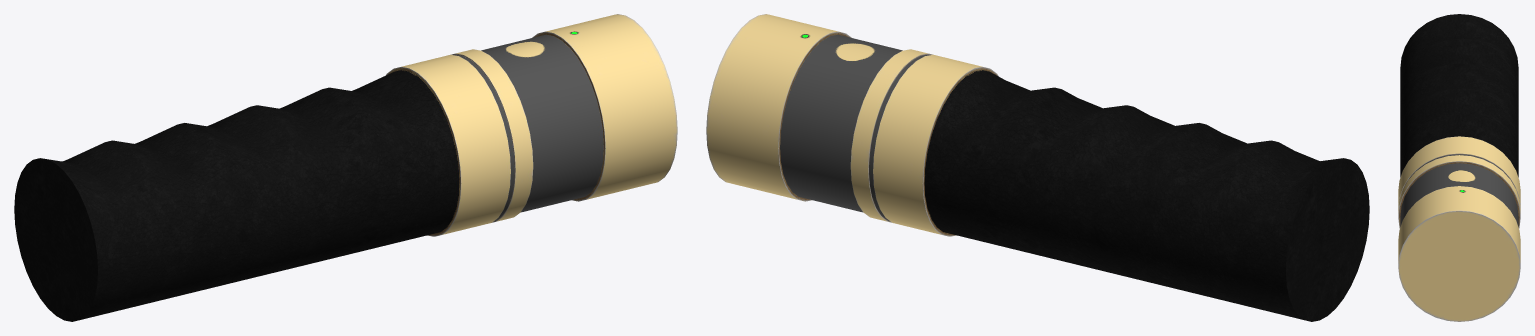
The model's file is grip_6_c_b.glb.
3 renders of one model, left to right at view 1: azimuth 30°, elevation 25°; view 2: azimuth 150°, elevation 25°; view 3: azimuth 270°, elevation 25°, orthographic. The views are drawn at different scales.
Visible parts, largest first — view 1: grip_6_c_b_lod0; view 2: grip_6_c_b_lod0; view 3: grip_6_c_b_lod0.
Part boxes in pixels (bbox=[...]): grip_6_c_b_lod0: bbox=[14, 14, 677, 321]; grip_6_c_b_lod0: bbox=[706, 14, 1369, 321]; grip_6_c_b_lod0: bbox=[1398, 14, 1520, 321].
Size of what is drawn, in the model's own units: 0.1055 by 0.0275 by 0.0275.
Materials: 1 (1 with a texture image).
